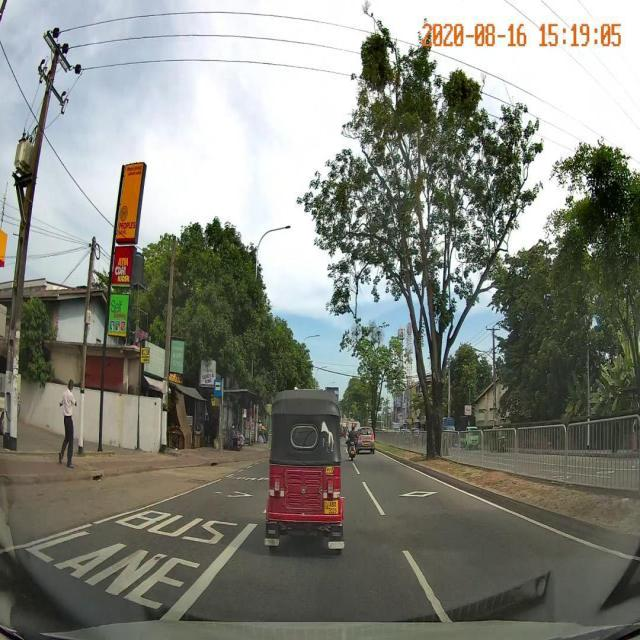BUS LANE: (17, 505, 241, 613)
Liniya 1: (413, 467, 628, 563), (157, 522, 263, 624), (91, 477, 224, 525), (401, 546, 458, 622), (1, 522, 94, 555), (360, 479, 389, 518), (351, 460, 365, 476)
